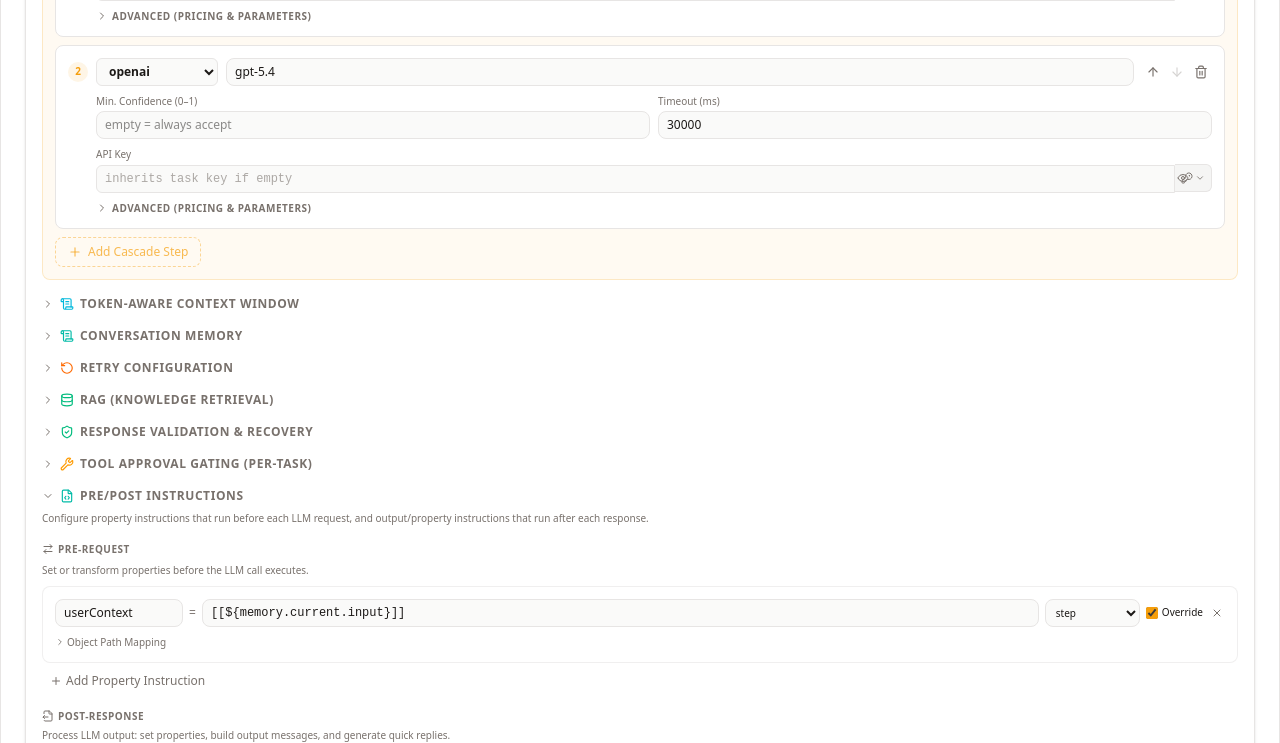
Scenario: LangChain Editor › adds a KB reference when button is clicked
(page scrolled)
Click the button "RAG (Knowledge Retrieval)" at (158, 400), box [42, 392, 274, 408]
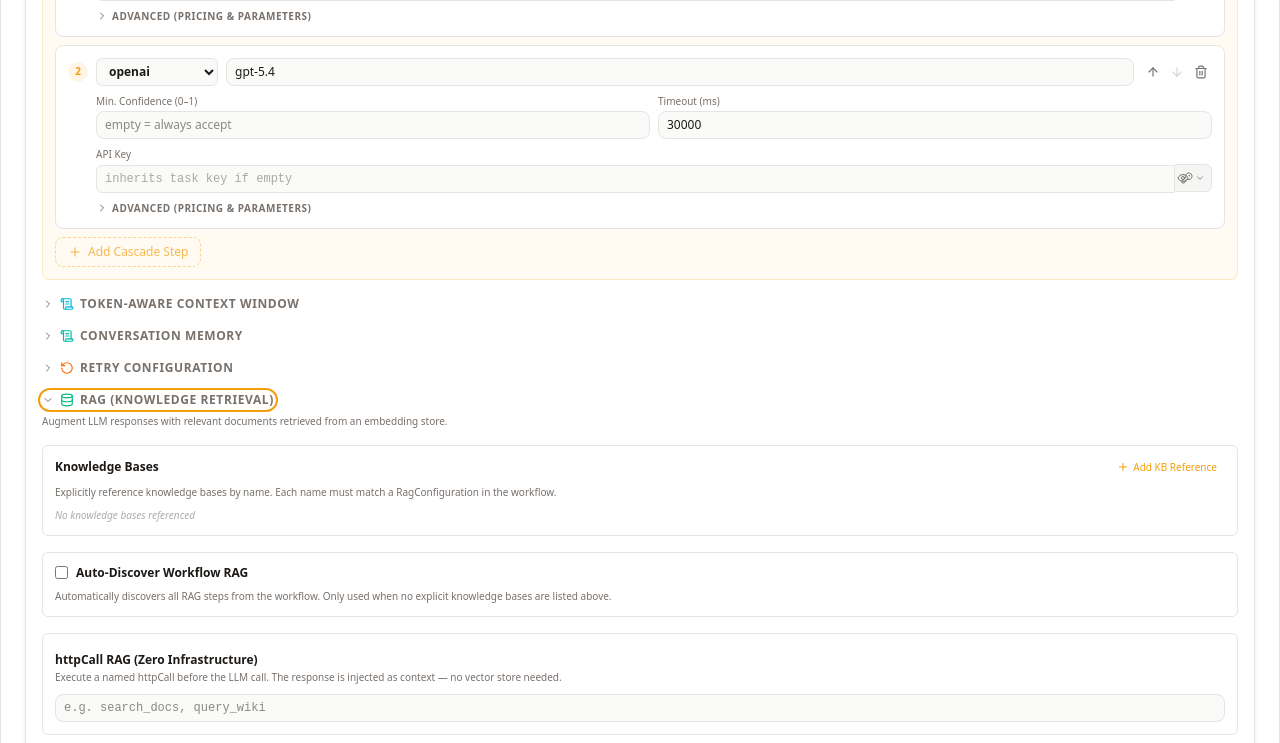
Result: the button with test id "add-kb-ref" is shown
Click the button with test id "add-kb-ref" at (1167, 467), box [1109, 458, 1225, 476]
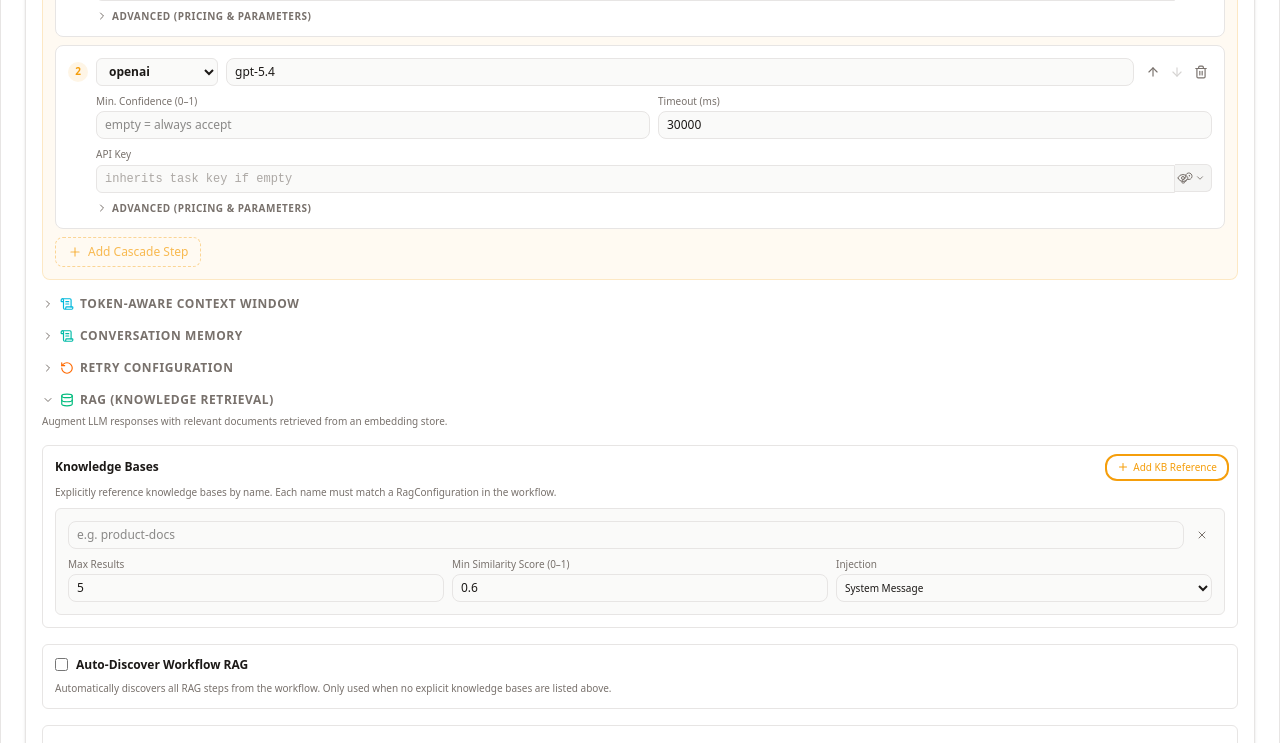
Result: the field with test id "kb-name-0" is shown at [68, 520, 1184, 548]
